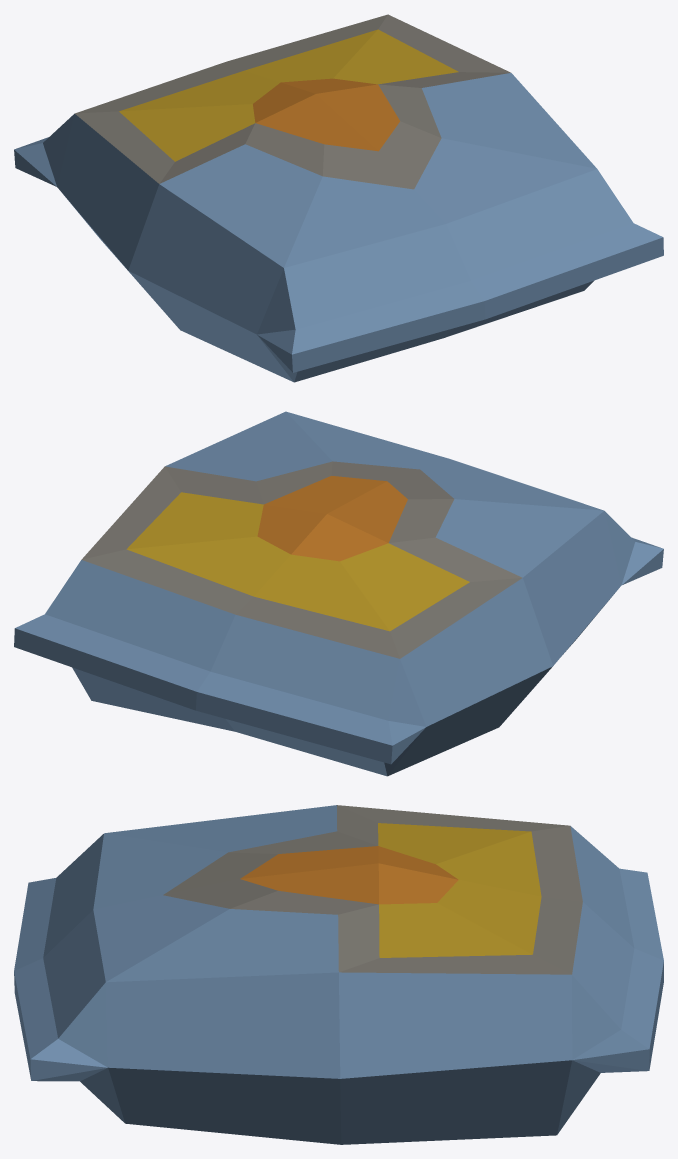
The model's file is SM_Prop_Snack_06.fbx.
3 renders of one model, top to bottom at view 1: azimuth 30°, elevation 25°; view 2: azimuth 150°, elevation 25°; view 3: azimuth 270°, elevation 25°, orthographic. The views are drawn at different scales.
Visible parts, largest first — view 1: SM_Prop_Snack_06; view 2: SM_Prop_Snack_06; view 3: SM_Prop_Snack_06.
Boxes of the visible parts, left/top/right/bottom form: SM_Prop_Snack_06: left=14, top=14, right=663, bottom=382; SM_Prop_Snack_06: left=14, top=411, right=663, bottom=776; SM_Prop_Snack_06: left=14, top=805, right=663, bottom=1144.
Bounding box in the file's own units: 16.53 × 7.53 × 19.4.
